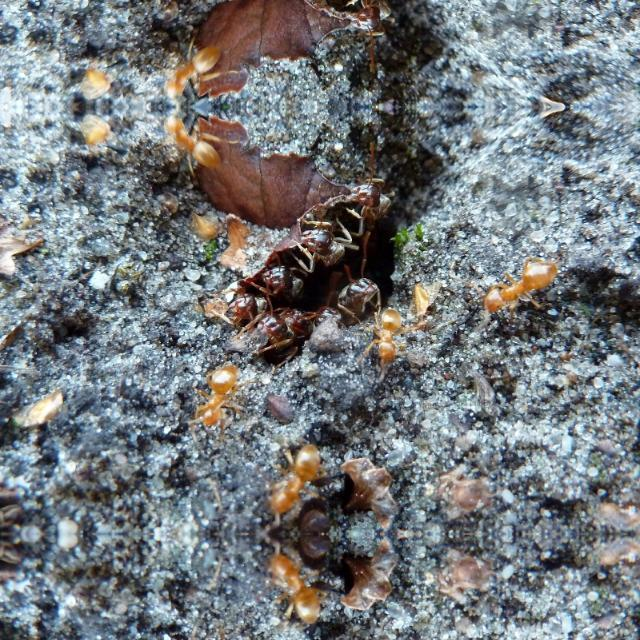Lasius: (237, 428, 336, 518), (237, 548, 336, 638), (490, 238, 576, 326), (334, 138, 402, 222), (182, 360, 256, 436), (362, 297, 421, 389), (293, 211, 369, 281), (334, 0, 401, 74), (159, 106, 231, 174), (159, 38, 231, 106), (325, 260, 397, 314), (253, 294, 307, 346), (214, 282, 278, 322), (256, 251, 304, 299)
